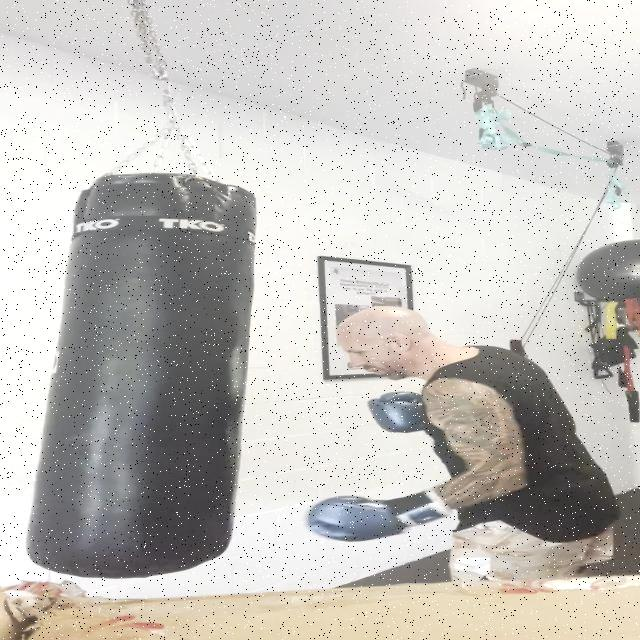punch: (301, 384, 535, 542)
